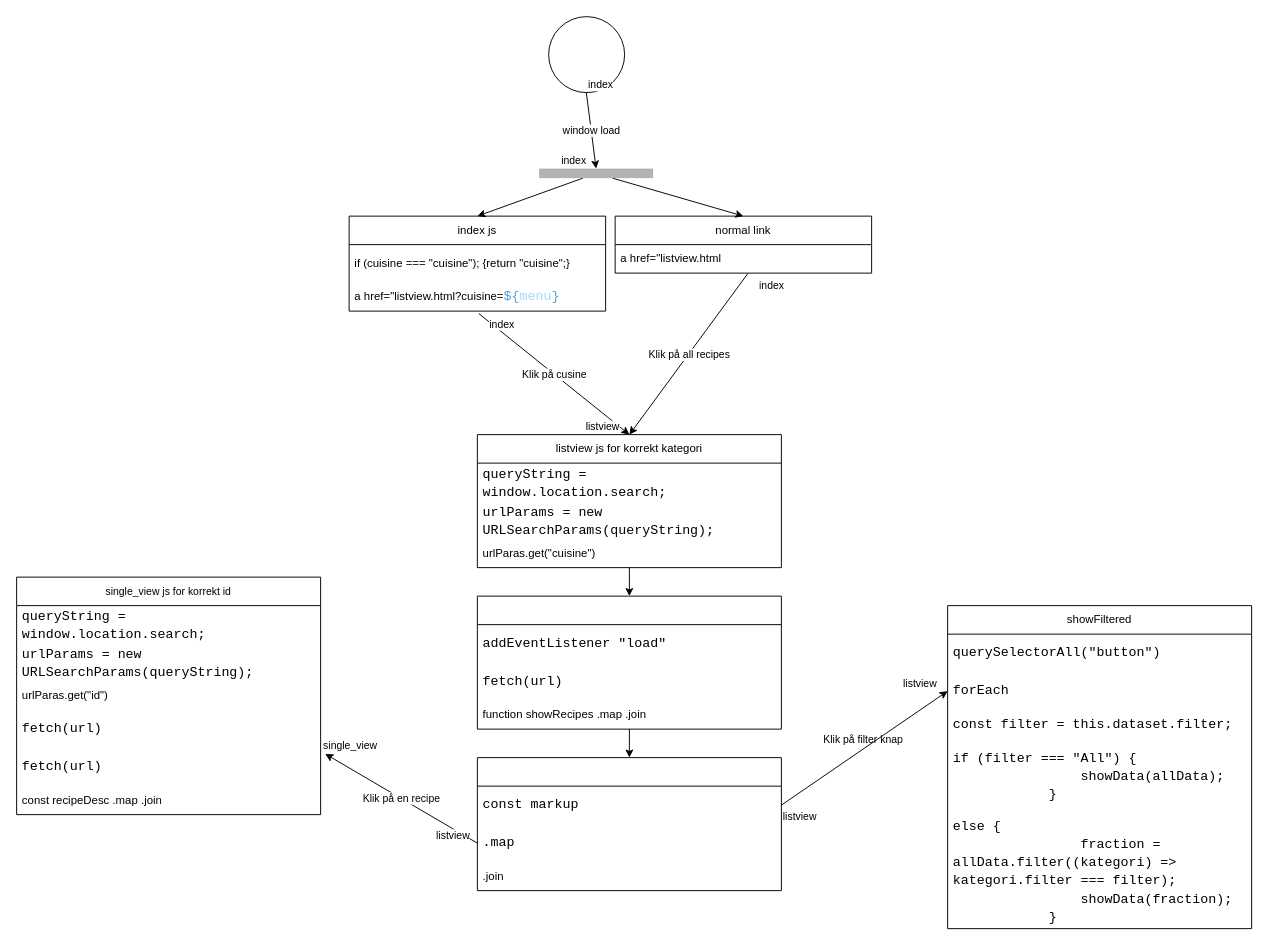
Image size: 1268x945. Some labels were removed from this diagram. Here are the shapes that lost their labels. From the top down, the box of each, then its label:
(476, 595, 781, 729): getData
(476, 757, 781, 891): showRecipes
